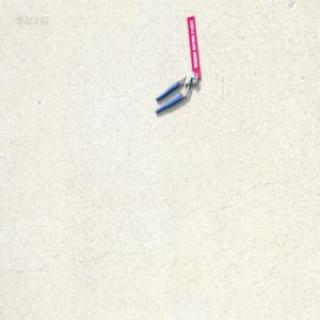LuggageTagtrack_idkeyframe: (185, 14, 200, 79)
Pliertrack_idkeyframe: (154, 68, 198, 114)
